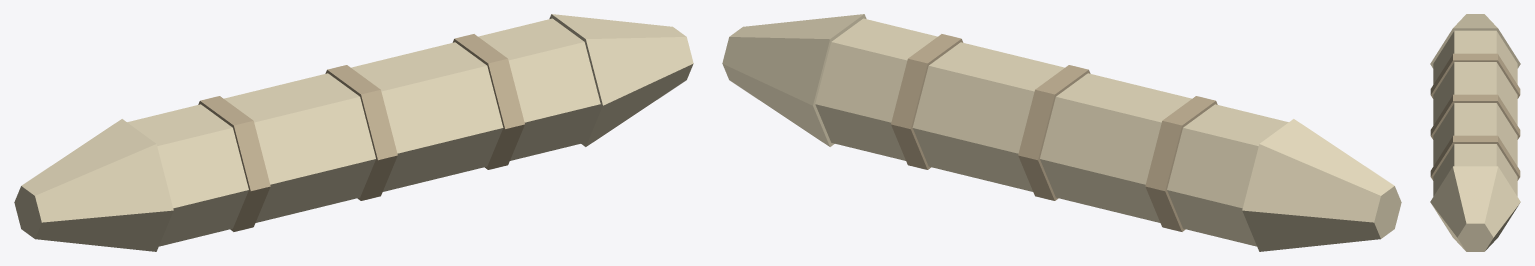
Rendered from prop-hemp-hank.fbx.
3 views of the same model, side by side, from view 1: azimuth 30°, elevation 25°; view 2: azimuth 150°, elevation 25°; view 3: azimuth 270°, elevation 25° (orthographic). The views are drawn at different scales.
Parts seen in each view (by area): view 1: prop-hemp-hank; view 2: prop-hemp-hank; view 3: prop-hemp-hank.
Part boxes in pixels (box(x1,y1,x2,y2)): prop-hemp-hank: box(14, 14, 693, 251); prop-hemp-hank: box(722, 14, 1401, 251); prop-hemp-hank: box(1430, 14, 1520, 251).
Bounding box in the file's own units: 82 × 12.99 × 15.
